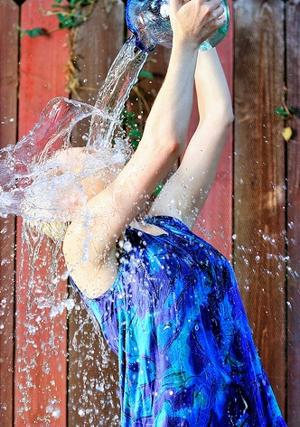person: (28, 3, 288, 425)
